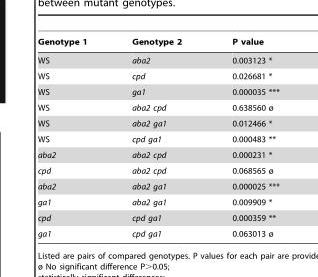table: (37, 37, 278, 237)
table column: (109, 37, 206, 237), (37, 37, 109, 237), (206, 37, 278, 237)
table column header: (37, 37, 278, 50)
table row: (37, 50, 278, 68), (37, 83, 278, 99), (37, 99, 278, 115), (37, 115, 278, 131), (37, 146, 278, 162), (37, 162, 278, 178), (37, 178, 278, 194), (37, 209, 278, 225), (37, 68, 278, 83), (37, 131, 278, 146), (37, 194, 278, 209), (37, 37, 278, 50), (37, 225, 278, 237)
